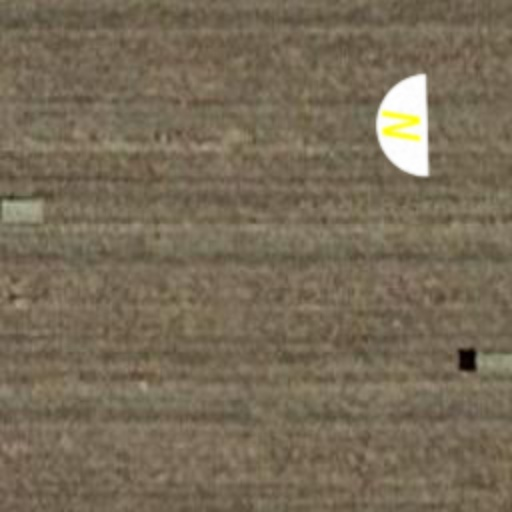semicircle: (348, 72, 456, 180)
